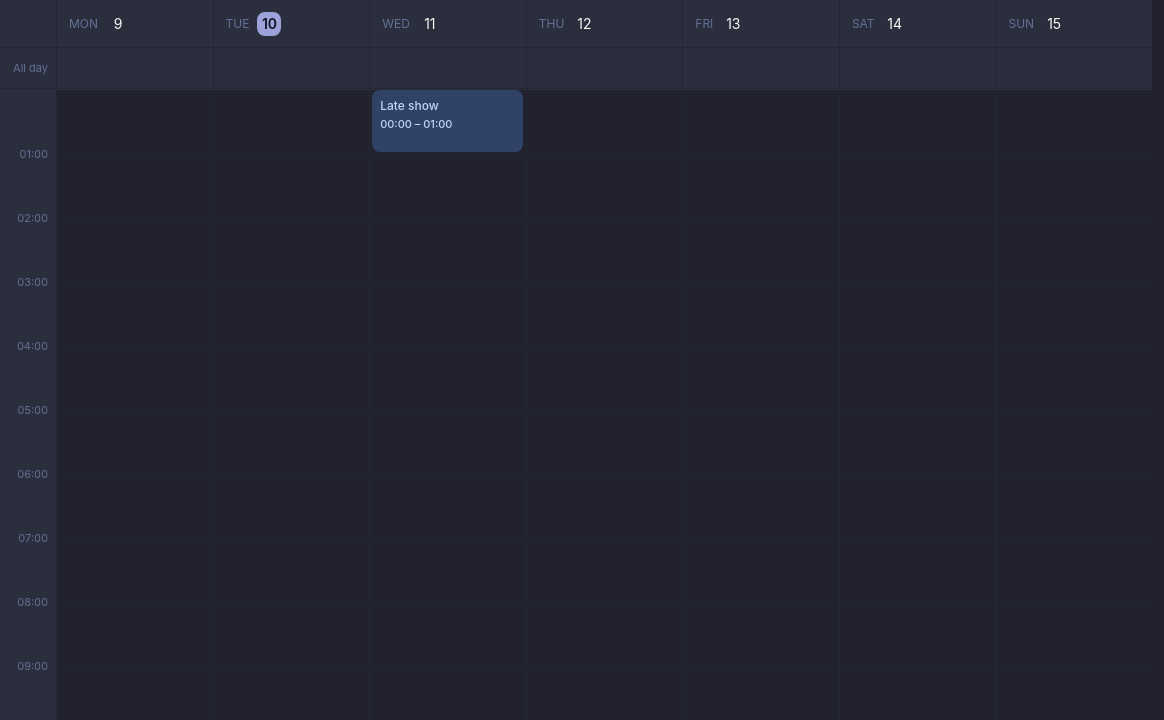
Test case: EventPopover: opening › shows both days and the full duration of a cross-midnight event, from either day
Click the button named "Late show, Nov 10 23:00 – Nov 11 01:00" at coordinates (448, 121), box [372, 90, 523, 152]
(page scrolled)
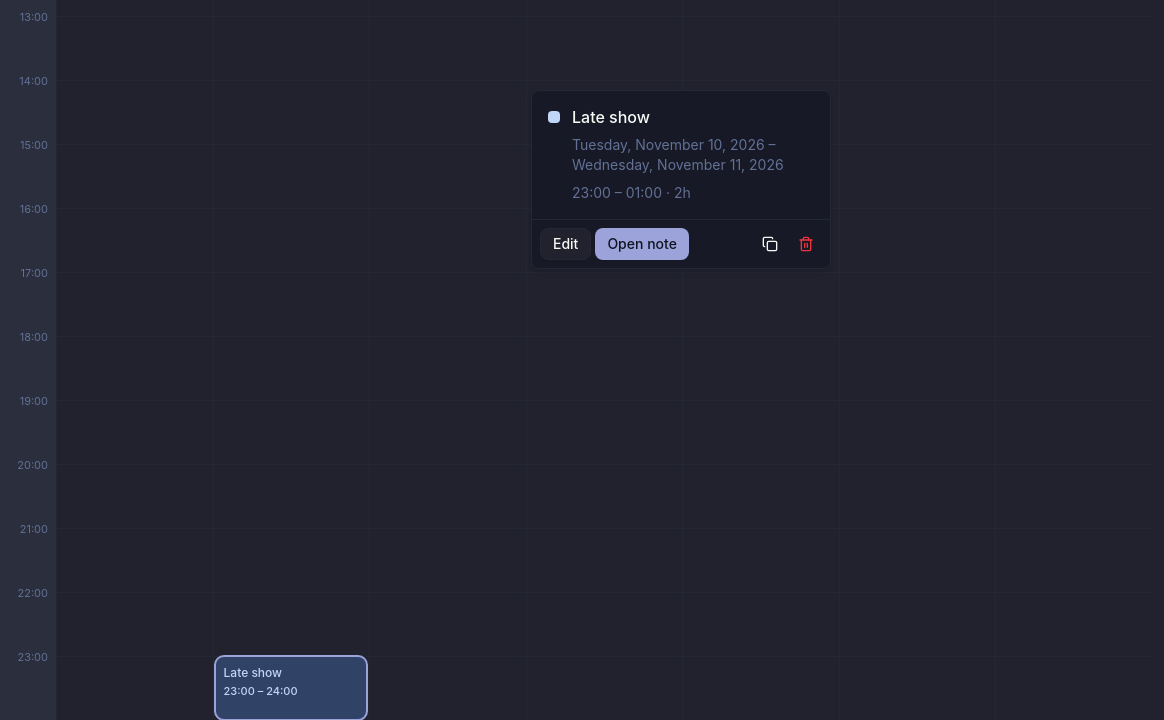
Expected: the text "Tuesday, November 10, 2026 – Wednesday, November 11, 2026" is shown, [572, 135, 814, 175]
Expected: the text "23:00 – 01:00 · 2h" is shown, [572, 184, 691, 201]
